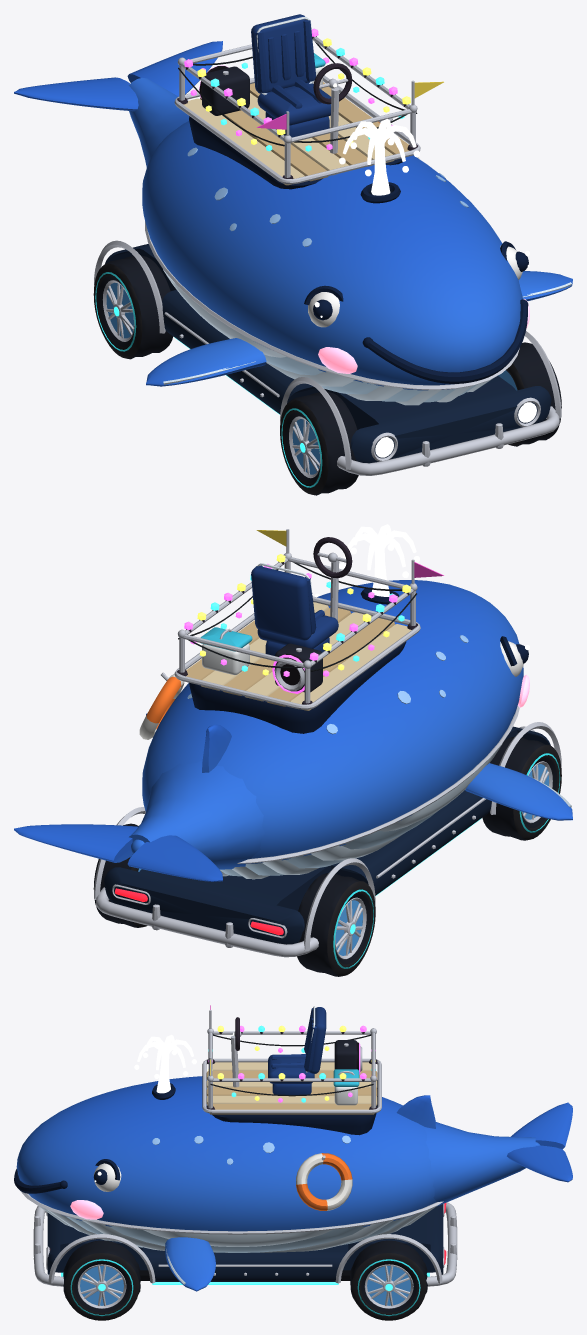
Rendered from whale_of_a_time.glb.
3 views of the same model, one above another, from view 1: azimuth 30°, elevation 25°; view 2: azimuth 150°, elevation 25°; view 3: azimuth 270°, elevation 25° (orthographic). The views are drawn at different scales.
Visible parts, largest first — view 1: body_blue, chassis, wheel_RR_tyre, wheel_FR_tyre, flipperR_fin, bumper_1, fluke_0, tail_stock, smile, deck_edge, seat_back, waterline (+23 smaller); view 2: body_blue, chassis, tail_stock, wheel_RR_tyre, deck_skirt, seat_back, flipperR_fin, fluke_1, wheel_FR_tyre, bumper_0, fluke_0, deck_edge (+21 smaller); view 3: body_blue, chassis, tail_stock, wheel_FL_tyre, wheel_RL_tyre, deck_skirt, flipperL_fin, deck_edge, waterline, belly_15, belly_16, fluke_0 (+33 smaller).
Part boxes in pixels (box(x1,y1,x2,y2)): body_blue: box(142, 121, 522, 390); chassis: box(105, 244, 551, 463); wheel_RR_tyre: box(93, 255, 173, 359); wheel_FR_tyre: box(280, 391, 358, 495); flipperR_fin: box(146, 338, 266, 386); bumper_1: box(337, 406, 559, 475); fluke_0: box(14, 77, 138, 111); tail_stock: box(129, 78, 189, 167); smile: box(367, 304, 527, 383); deck_edge: box(174, 75, 420, 184); seat_back: box(251, 14, 309, 93); waterline: box(145, 221, 519, 390); body_blue: box(142, 580, 523, 864); chassis: box(104, 726, 550, 944); tail_stock: box(129, 761, 265, 869); wheel_RR_tyre: box(297, 873, 375, 976); deck_skirt: box(189, 641, 406, 733); seat_back: box(251, 566, 311, 640); flipperR_fin: box(465, 763, 572, 820); fluke_1: box(14, 824, 137, 862); wheel_FR_tyre: box(482, 736, 561, 840); bumper_0: box(96, 887, 318, 957); fluke_0: box(127, 835, 222, 881); deck_edge: box(174, 596, 420, 709); body_blue: box(16, 1076, 435, 1231); chassis: box(47, 1204, 443, 1281); tail_stock: box(424, 1122, 535, 1206); wheel_FL_tyre: box(63, 1240, 140, 1320); wheel_RL_tyre: box(350, 1240, 427, 1320); deck_skirt: box(206, 1080, 377, 1135); flipperL_fin: box(165, 1237, 215, 1291); deck_edge: box(202, 1058, 381, 1113); waterline: box(21, 1191, 443, 1234); belly_15: box(109, 1225, 366, 1252); belly_16: box(143, 1229, 332, 1246); fluke_0: box(510, 1102, 572, 1149).
Size of the model in its own units: 4.9 by 3.75 by 7.2.
